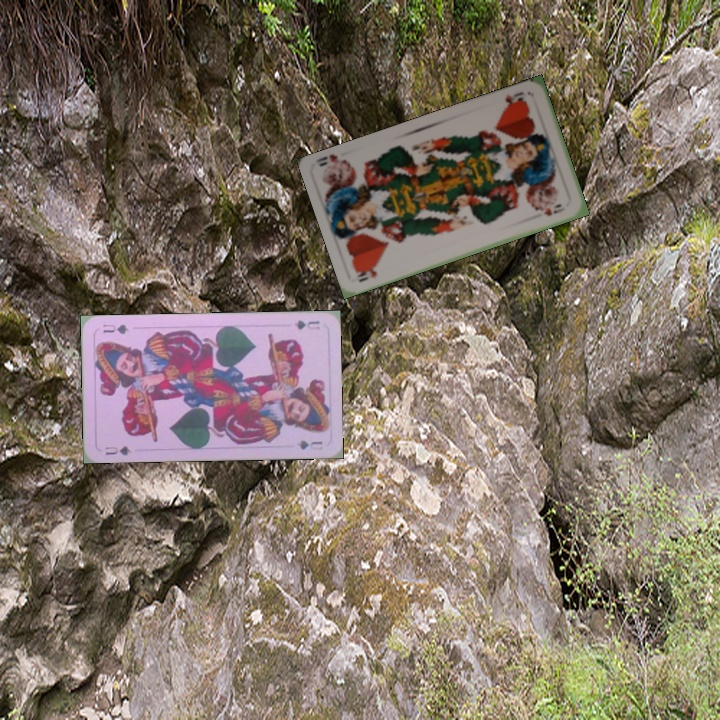GU: (290, 316, 322, 333), (101, 442, 134, 458)
HO: (499, 88, 529, 111), (352, 262, 381, 285)
